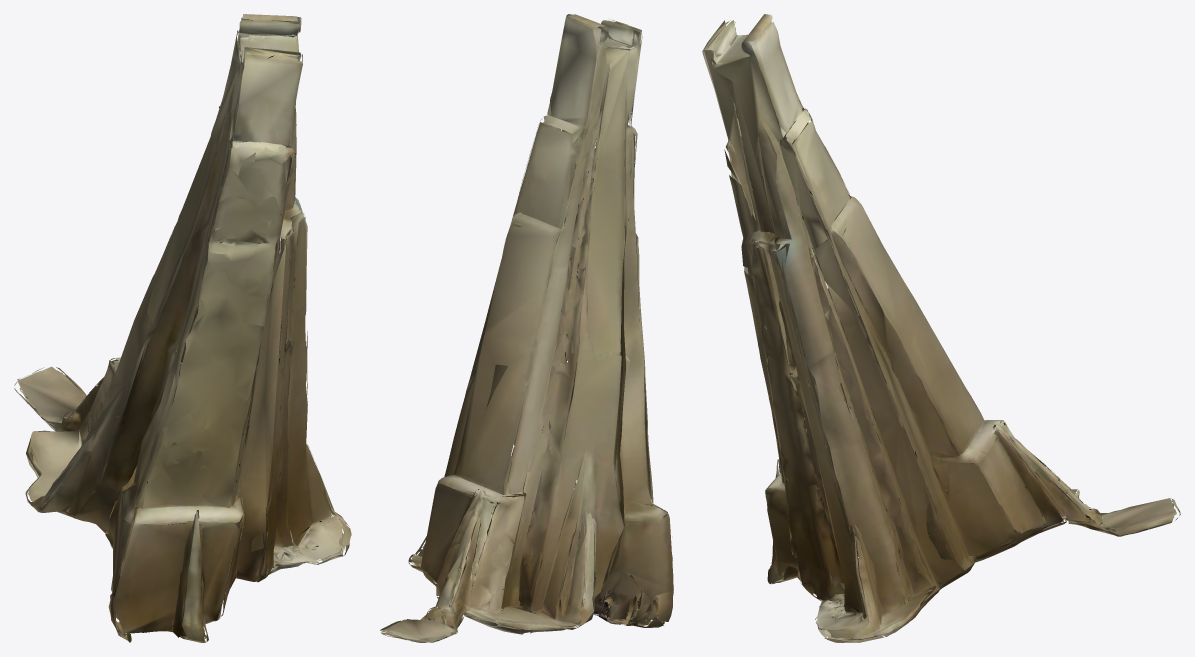
Rendered from jedha-kyber-temple.lo.glb.
3 renders of one model, left to right at view 1: azimuth 30°, elevation 25°; view 2: azimuth 150°, elevation 25°; view 3: azimuth 270°, elevation 25°, orthographic. The views are drawn at different scales.
Visible parts, largest first — view 1: low; view 2: low; view 3: low.
Boxes of the visible parts, box(x1,y1,x2,y2) form: low: box(14, 14, 351, 642); low: box(380, 14, 673, 642); low: box(702, 14, 1180, 642).
Bounding box in the file's own units: 0.3721 × 0.86 × 0.6304.
1 material, 1 textured.
